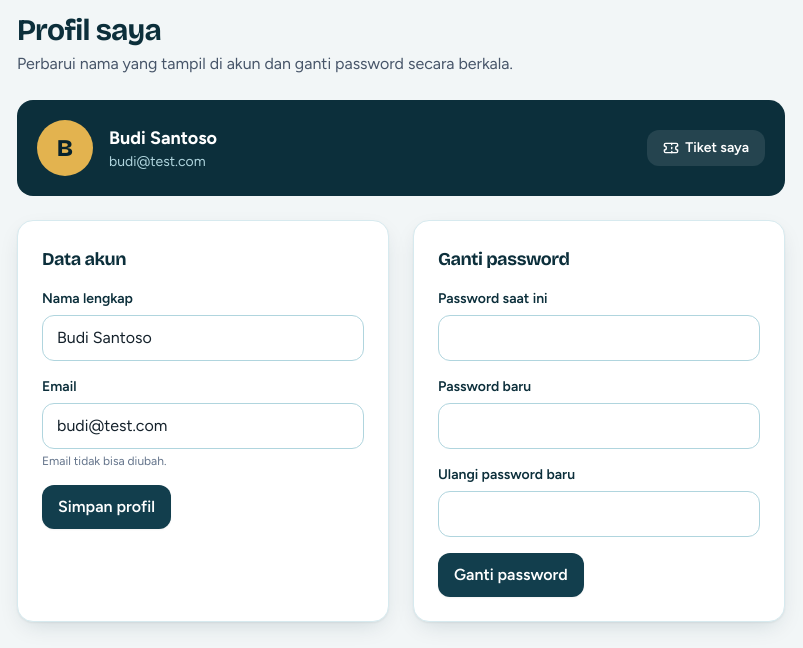
Scenario: ProfilePage › nama terlalu pendek ditolak tanpa memanggil API
This screenshot has width=803, height=648.
Replace the text in the field labelled "Nama lengkap" with "B": (203, 338) [42,315,364,361]
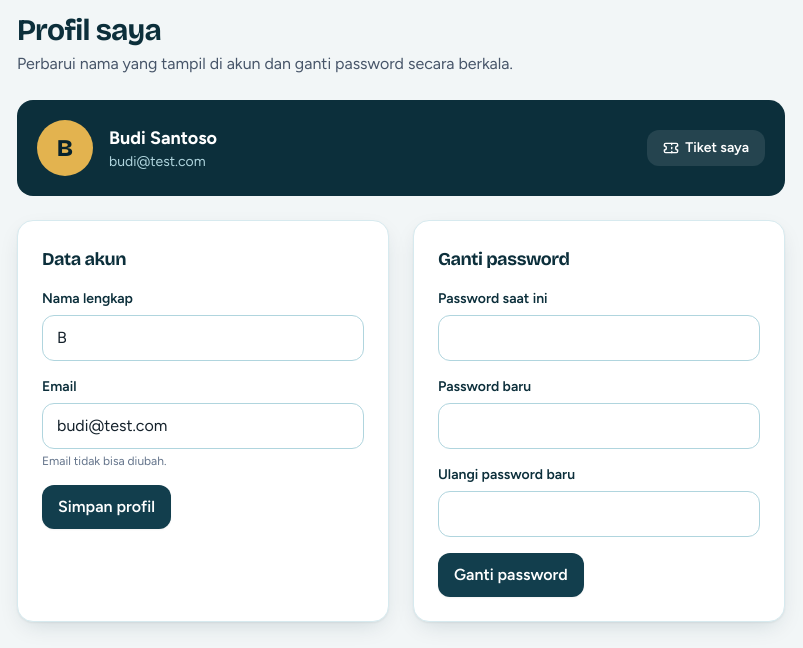
Submit the form that starts with "Data akun", box [17,220,389,622]
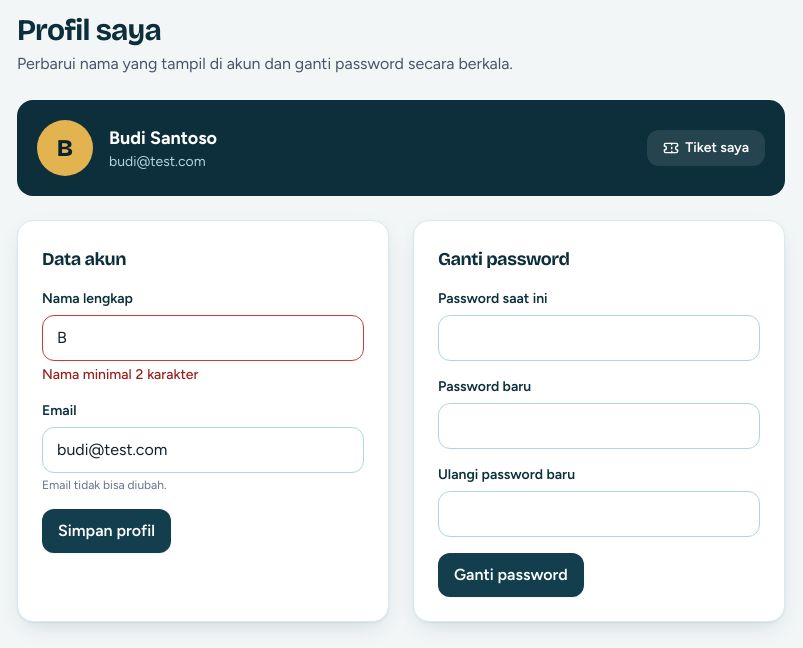
Expected: the text "Nama minimal 2 karakter" is shown, [42,366,198,383]
